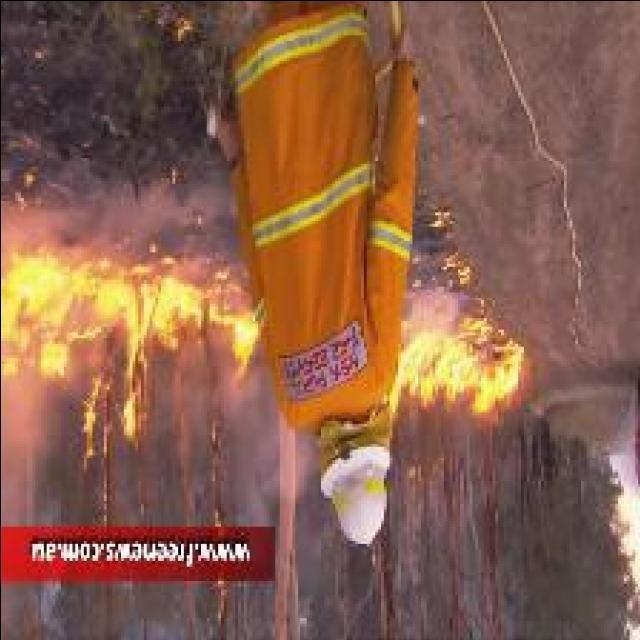Fire: (0, 255, 257, 450), (384, 328, 522, 422)
